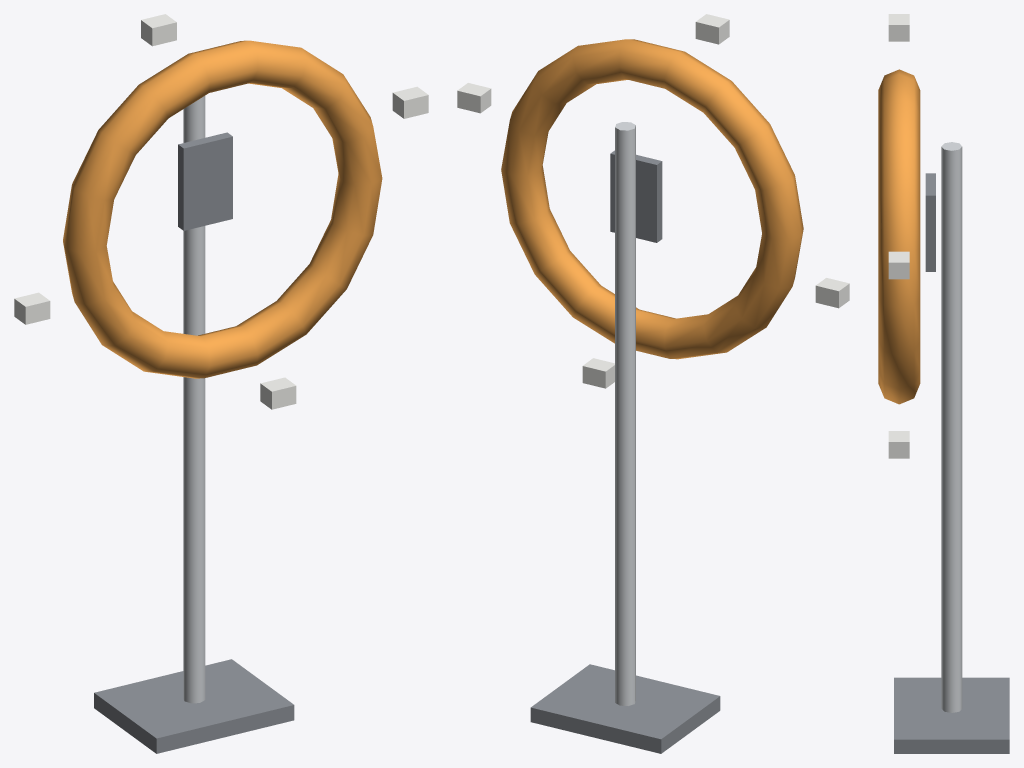
The model's file is LifeRing.fbx.
The picture shows the model from 3 angles, left to right: view 1: azimuth 30°, elevation 25°; view 2: azimuth 150°, elevation 25°; view 3: azimuth 270°, elevation 25°; orthographic projection. The views are drawn at different scales.
Visible parts, largest first — view 1: LOD0; view 2: LOD0; view 3: LOD0.
Boxes of the visible parts, x1,y1,x2,y2 form: LOD0: [14, 14, 428, 753]; LOD0: [457, 14, 849, 753]; LOD0: [878, 14, 1009, 753].
Size of what is drawn, in the model's own units: 81.89 by 142 by 25.
